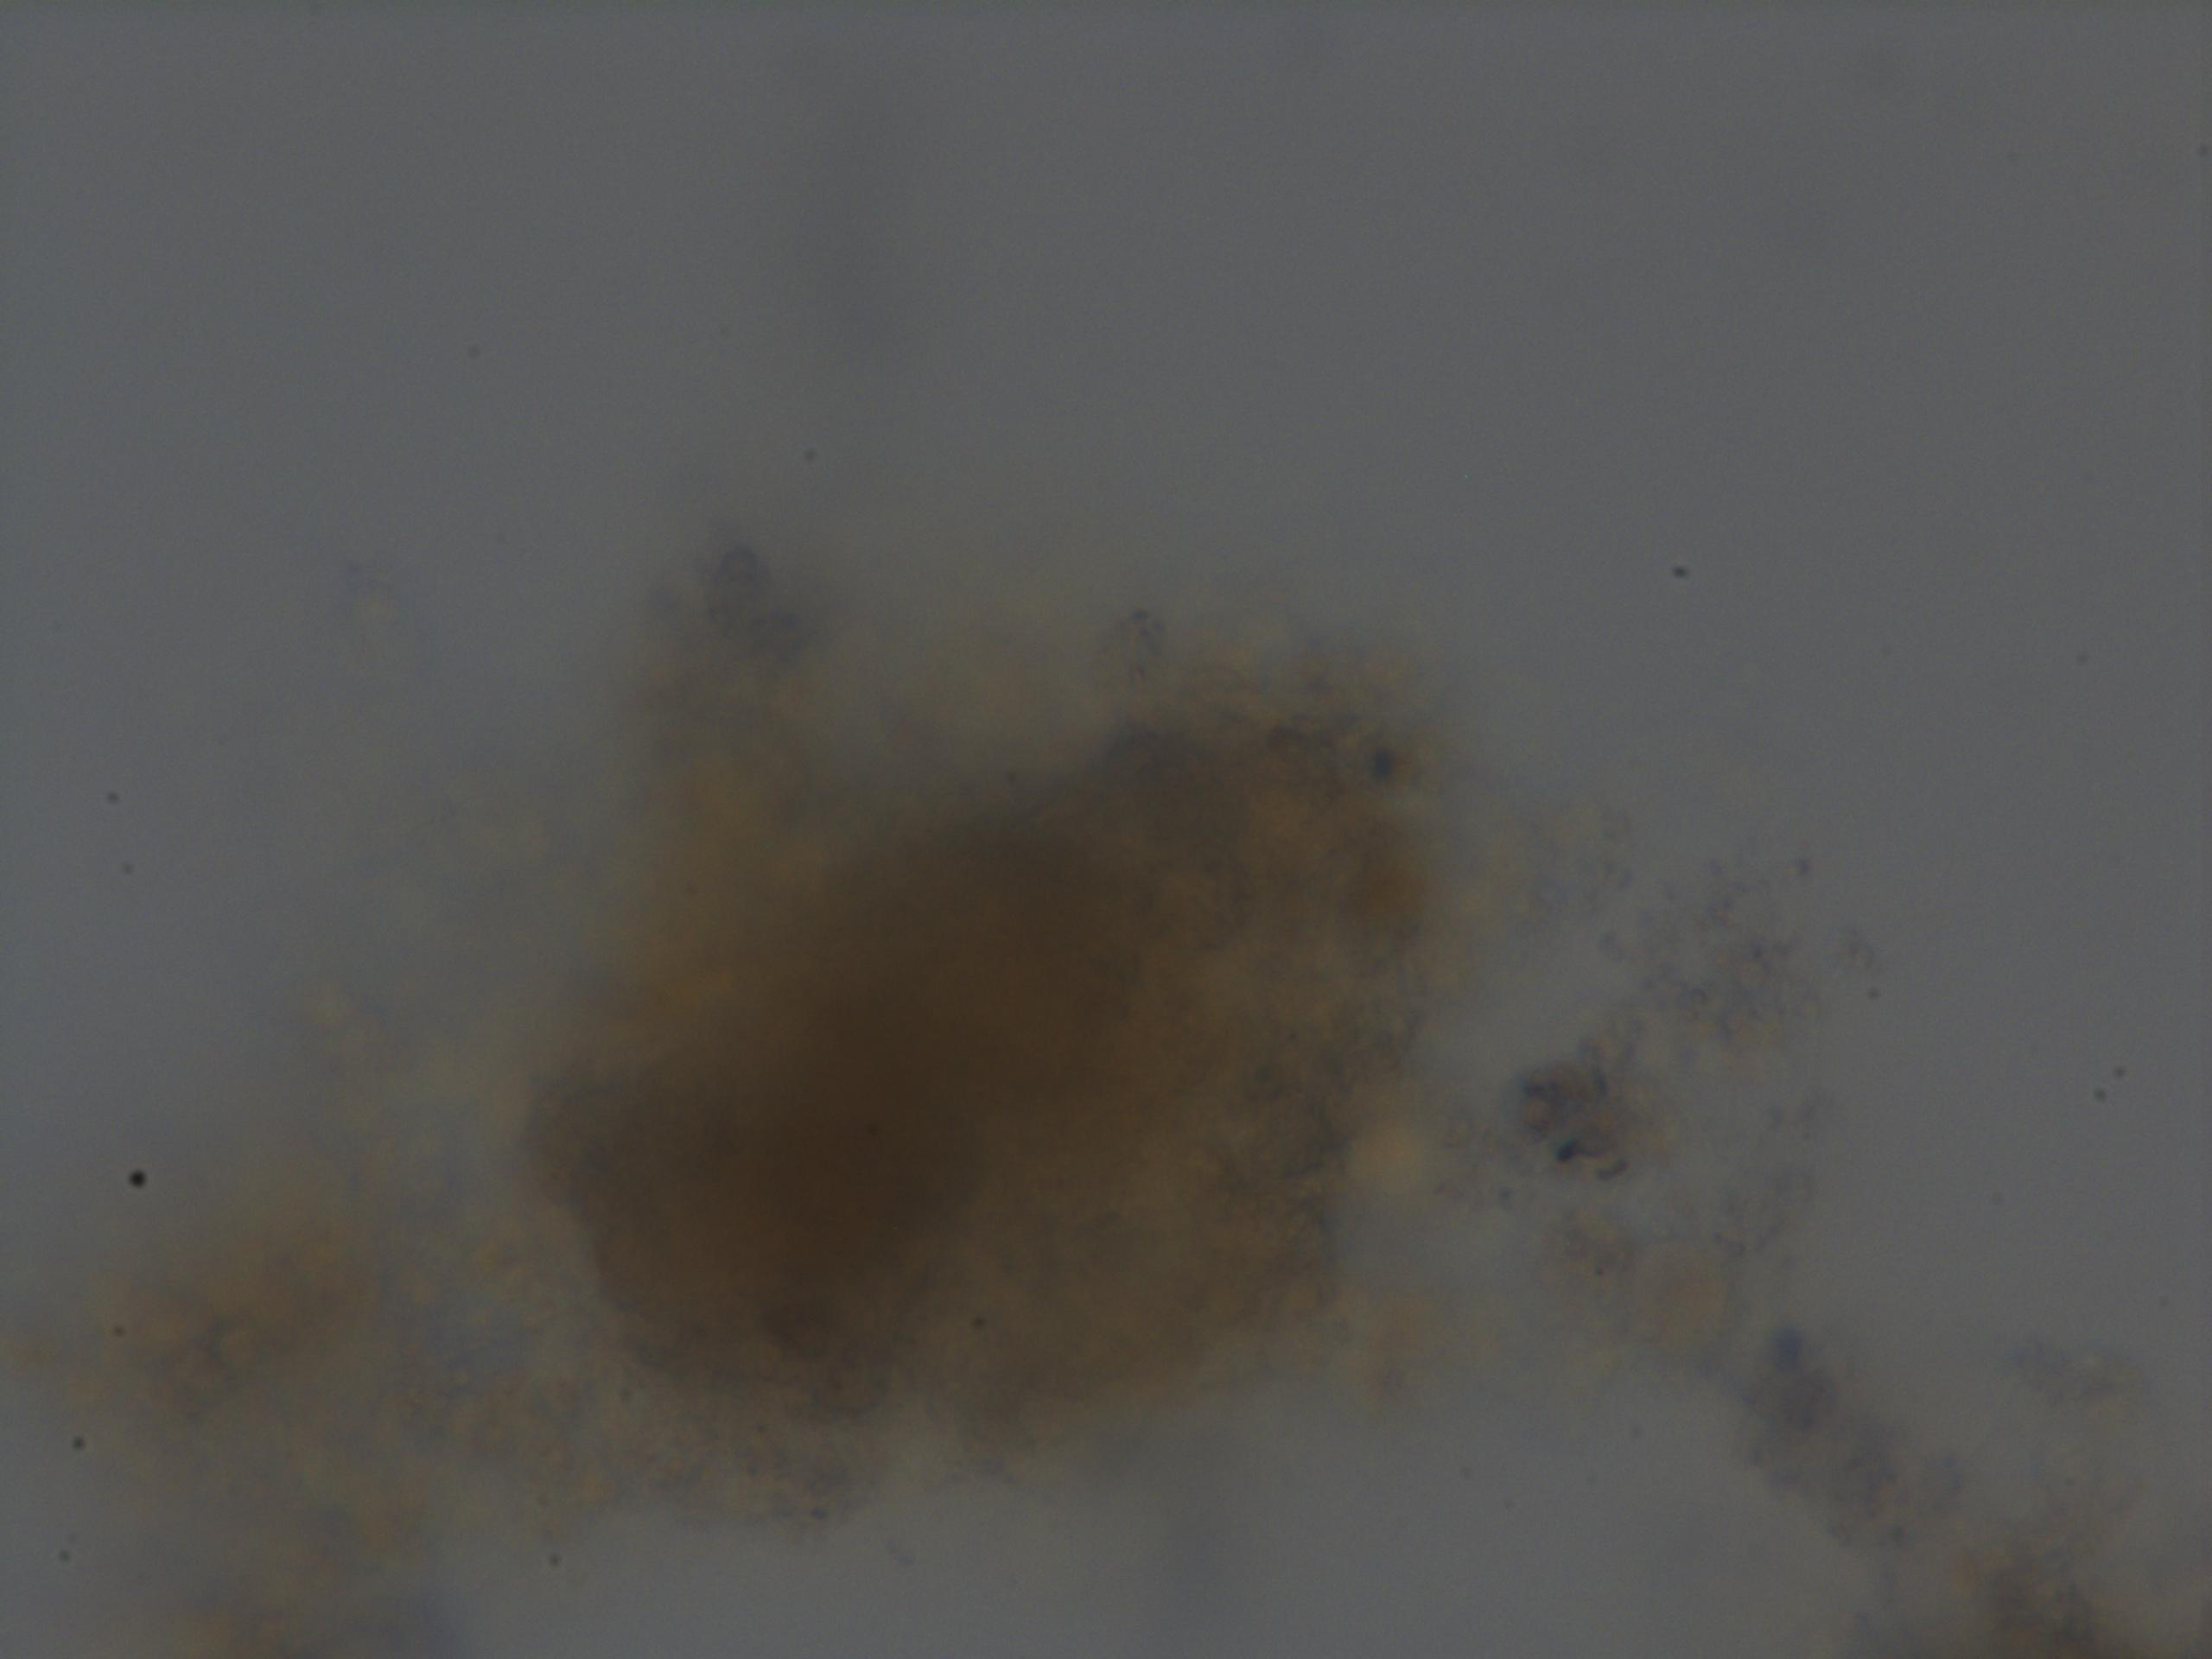spherical_floc: (510, 591, 1453, 1504)
